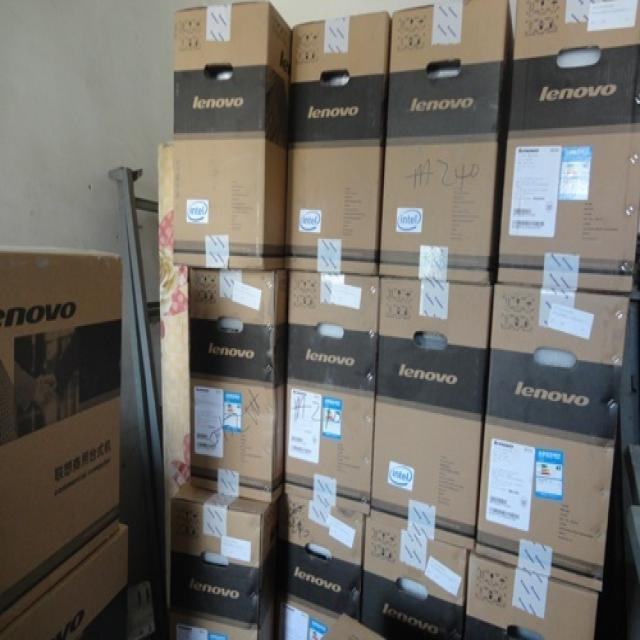box: (475, 283, 630, 594), (0, 246, 123, 630), (497, 0, 640, 294), (380, 0, 515, 283), (369, 276, 494, 550), (173, 2, 292, 271), (285, 10, 393, 276), (187, 268, 289, 503), (283, 271, 379, 517), (172, 478, 278, 640), (0, 522, 128, 640), (362, 521, 468, 640), (278, 495, 364, 638), (465, 553, 599, 638), (317, 613, 385, 640)
